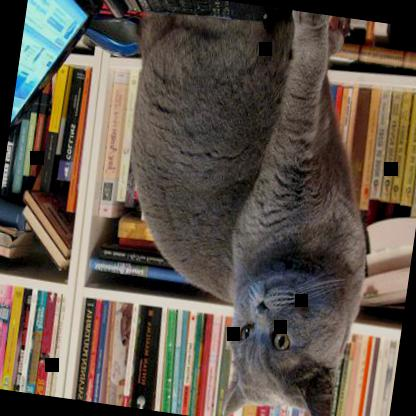cat: (88, 0, 405, 415)
